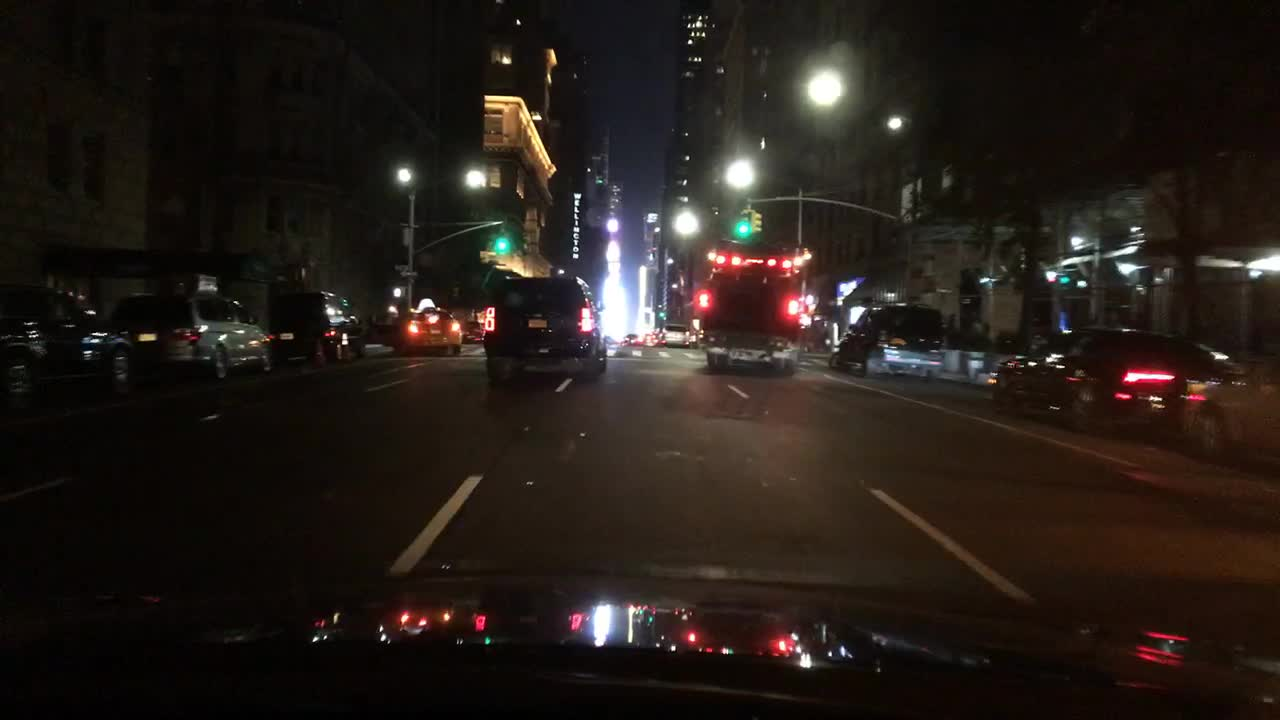car: (989, 319, 1221, 430), (0, 283, 137, 399), (110, 289, 271, 384), (481, 273, 613, 384), (693, 252, 807, 378), (1178, 338, 1280, 461), (828, 301, 946, 379), (263, 289, 368, 372), (395, 299, 461, 356), (457, 318, 487, 347), (662, 322, 688, 349), (641, 332, 661, 350), (622, 329, 638, 350)
traffic light: (738, 209, 750, 233), (497, 223, 507, 250), (753, 212, 764, 236), (389, 284, 404, 298), (1058, 274, 1070, 289)
traffic sign: (392, 261, 409, 270), (400, 272, 415, 278)
